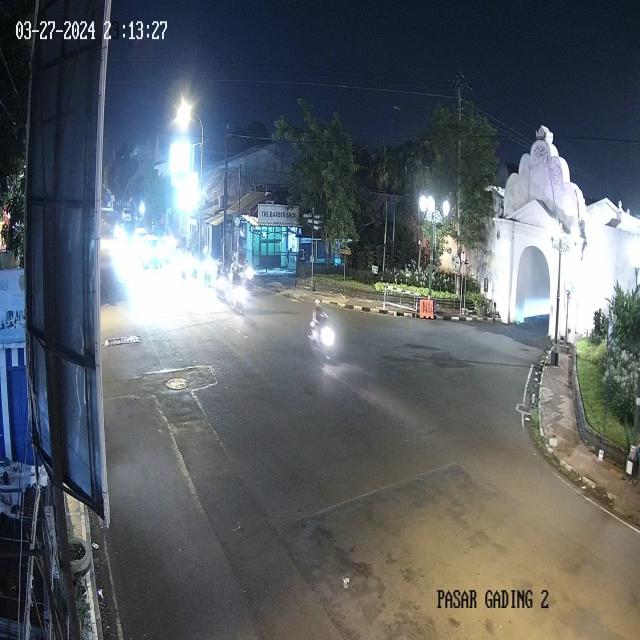car: (141, 234, 162, 270), (134, 228, 148, 252), (121, 207, 131, 223)
motorcycle: (310, 299, 336, 367), (232, 263, 246, 315), (215, 260, 227, 302), (243, 258, 254, 297), (231, 255, 241, 284)
